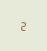two: (19, 20, 26, 30)
